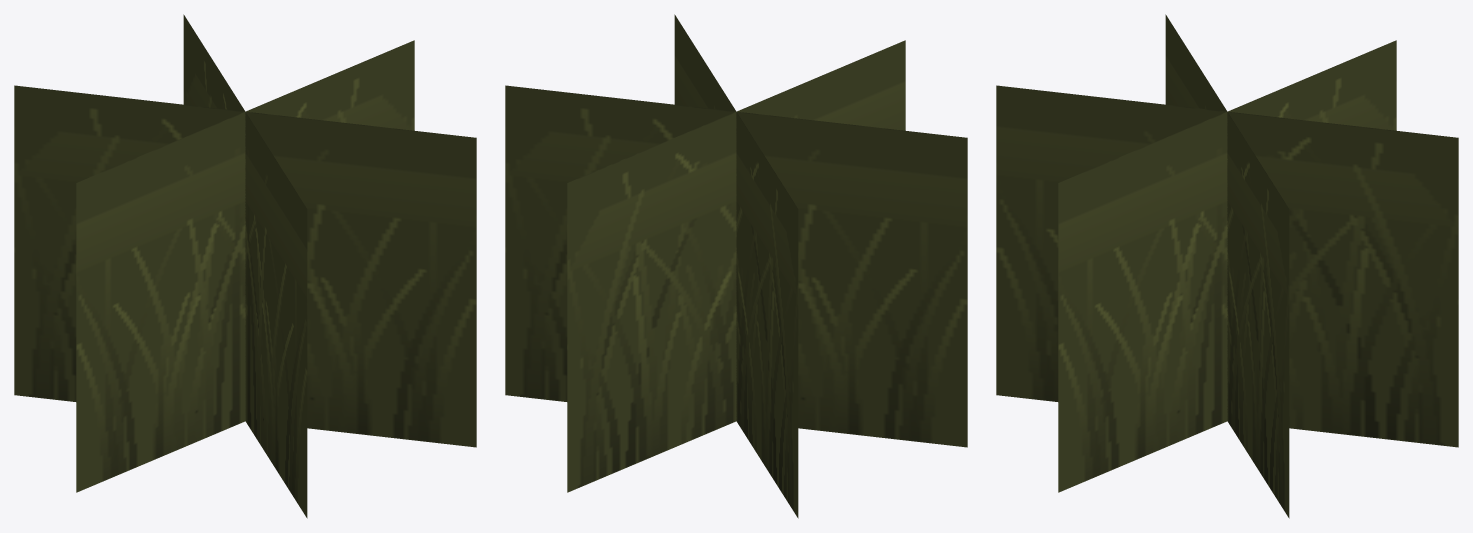
File: grass_tuft.glb
3 views of the same model, side by side, from view 1: azimuth 30°, elevation 25°; view 2: azimuth 150°, elevation 25°; view 3: azimuth 270°, elevation 25° (orthographic).
Parts seen in each view (by area): view 1: grass_tuft; view 2: grass_tuft; view 3: grass_tuft.
Part boxes in pixels (x1,y1,x2,y2): grass_tuft: (14,14,476,518); grass_tuft: (505,14,967,518); grass_tuft: (996,14,1458,518).
Bounding box in the file's own units: 0.6761 × 0.5 × 0.6761.
1 material, 1 textured.
